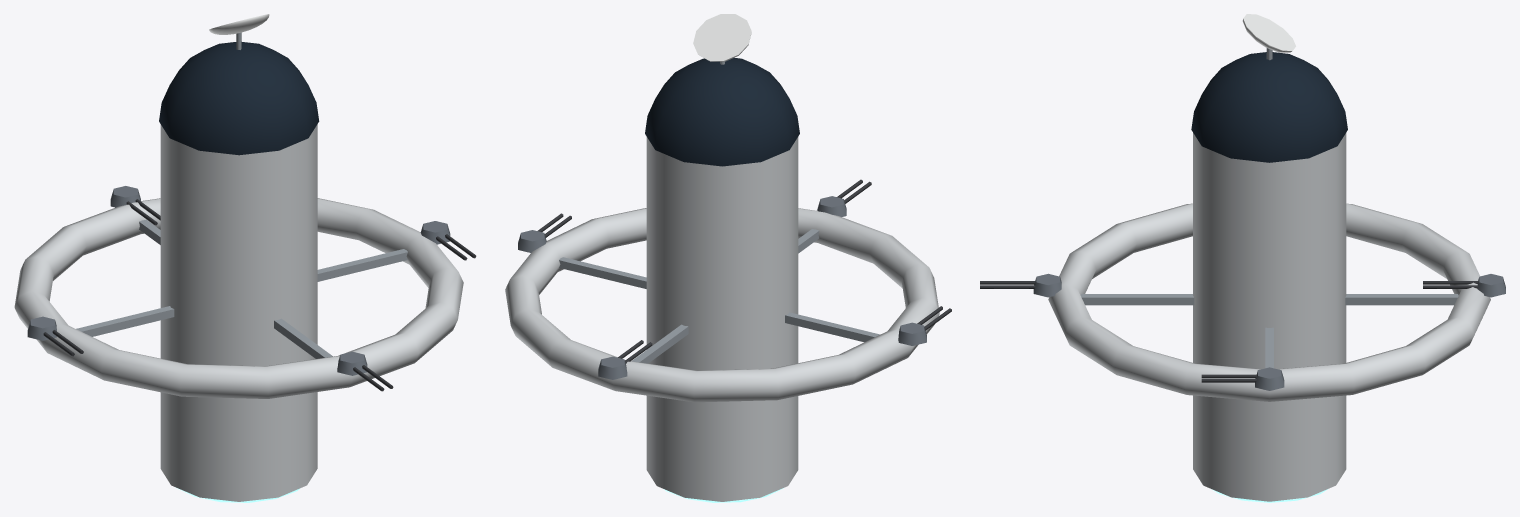
The model's file is space_orbital_command_center_t3.glb.
The picture shows the model from 3 angles, left to right: view 1: azimuth 30°, elevation 25°; view 2: azimuth 150°, elevation 25°; view 3: azimuth 270°, elevation 25°; orthographic projection. The views are drawn at different scales.
Visible parts, largest first — view 1: body, ring, turret_1, turret_2, turret_0, turret_3, antenna_0; view 2: body, ring, antenna_0, turret_3, turret_2, turret_0, turret_1; view 3: body, ring, antenna_0, turret_0, turret_1, turret_3.
Part boxes in pixels (box(x1,y1,x2,y2)): body: box(159, 42, 319, 502); ring: box(14, 198, 463, 398); turret_1: box(337, 351, 393, 391); turret_2: box(27, 316, 83, 356); turret_0: box(420, 221, 476, 260); turret_3: box(110, 186, 160, 225); antenna_0: box(209, 14, 269, 49); body: box(645, 57, 799, 502); ring: box(505, 208, 939, 402); antenna_0: box(693, 14, 751, 64); turret_3: box(598, 340, 652, 379); turret_2: box(898, 306, 951, 345); turret_0: box(518, 213, 571, 252); turret_1: box(817, 179, 871, 216); body: box(1191, 52, 1347, 502); ring: box(1048, 203, 1490, 401); antenna_0: box(1242, 14, 1295, 60); turret_0: box(1201, 367, 1284, 390); turret_1: box(980, 273, 1061, 297); turret_3: box(1423, 274, 1505, 297).
Size of what is drawn, in the model's own units: 28 by 29.5 by 30.87.
